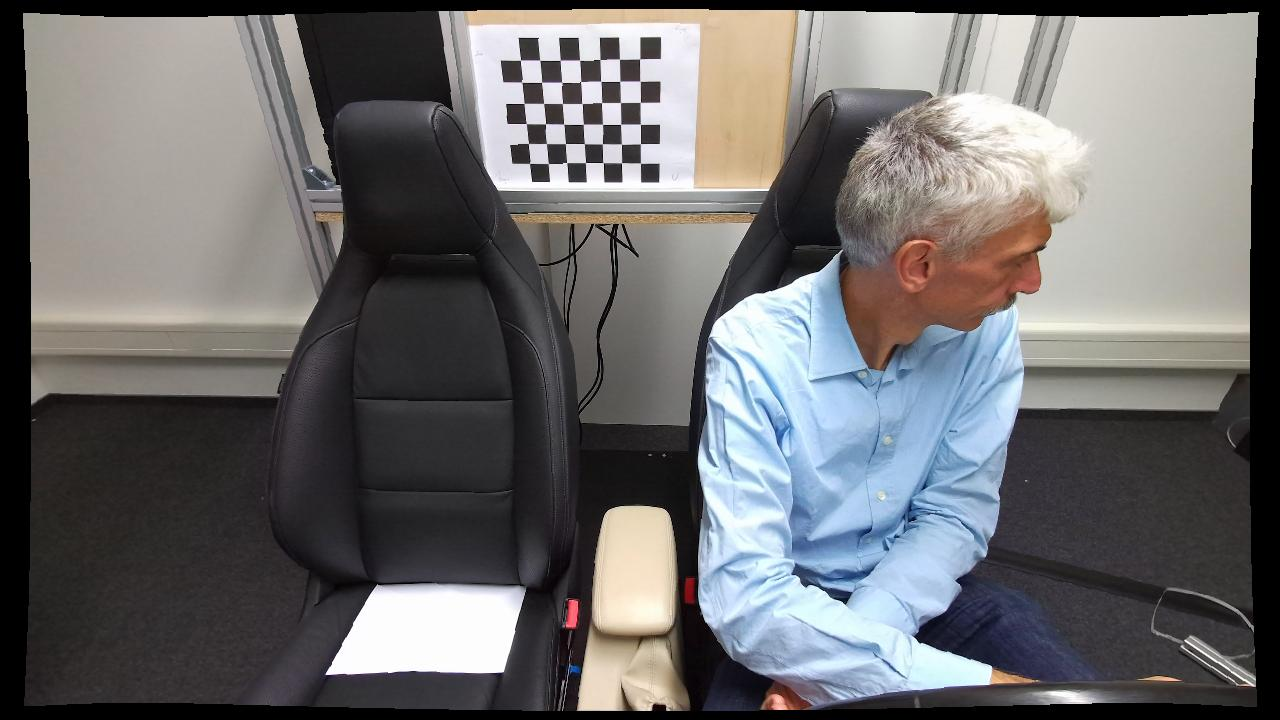Distracted: (693, 85, 1097, 714)
